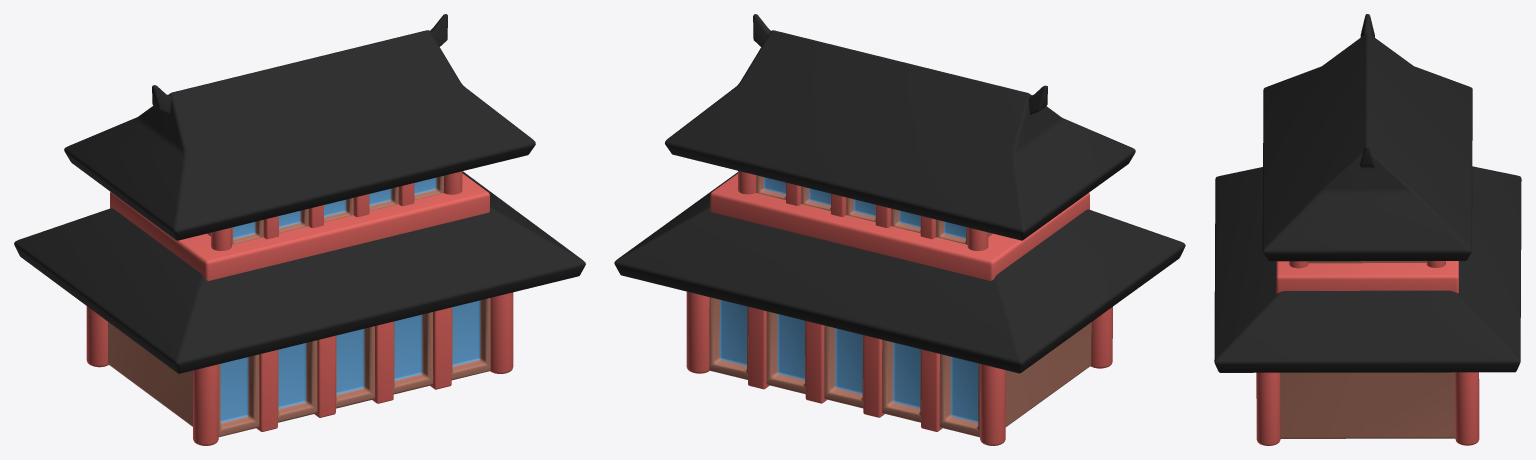
The model's file is The Gyeongbokgung.fbx.
3 views of the same model, side by side, from view 1: azimuth 30°, elevation 25°; view 2: azimuth 150°, elevation 25°; view 3: azimuth 270°, elevation 25° (orthographic). The views are drawn at different scales.
Visible parts, largest first — view 1: Cube.129_Cube.125; view 2: Cube.129_Cube.125; view 3: Cube.129_Cube.125.
Part boxes in pixels (<box>): Cube.129_Cube.125: <box>14,14,585,445</box>; Cube.129_Cube.125: <box>614,14,1185,445</box>; Cube.129_Cube.125: <box>1214,14,1521,445</box>.
Bounding box in the file's own units: 297 × 221 × 207.
